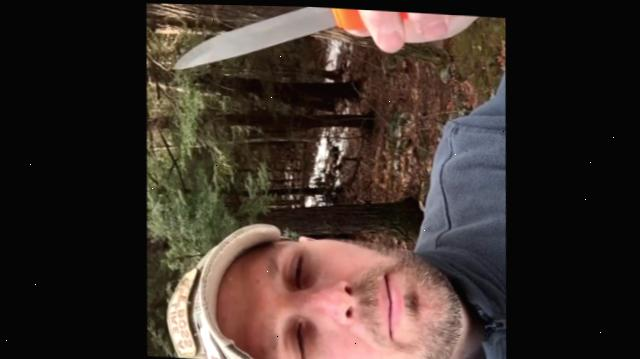pocket-knife: (164, 3, 443, 88)
